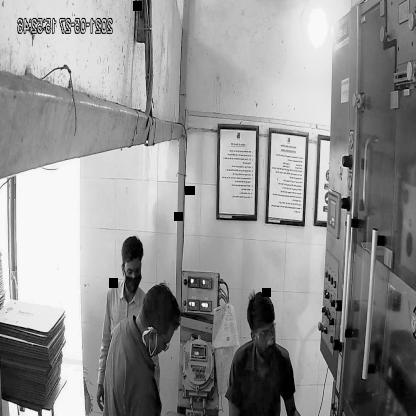goggles: (252, 321, 279, 343)
no_goggles: (119, 261, 148, 277)
